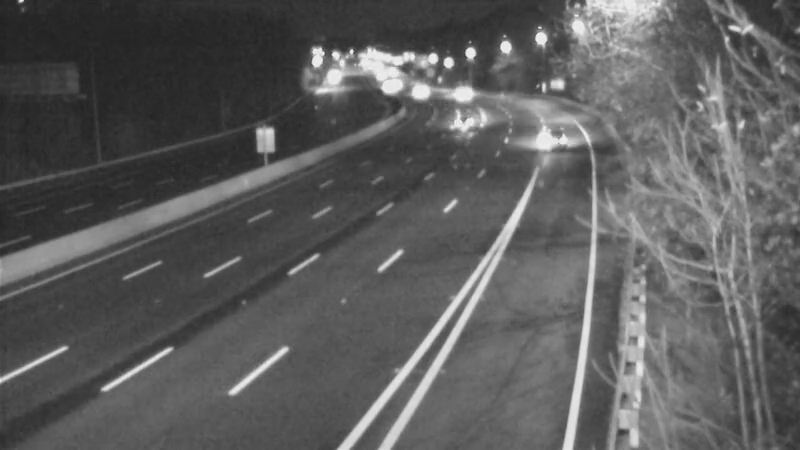vehicle: (395, 66, 445, 116), (427, 69, 477, 119), (431, 96, 481, 146), (525, 113, 575, 163)
